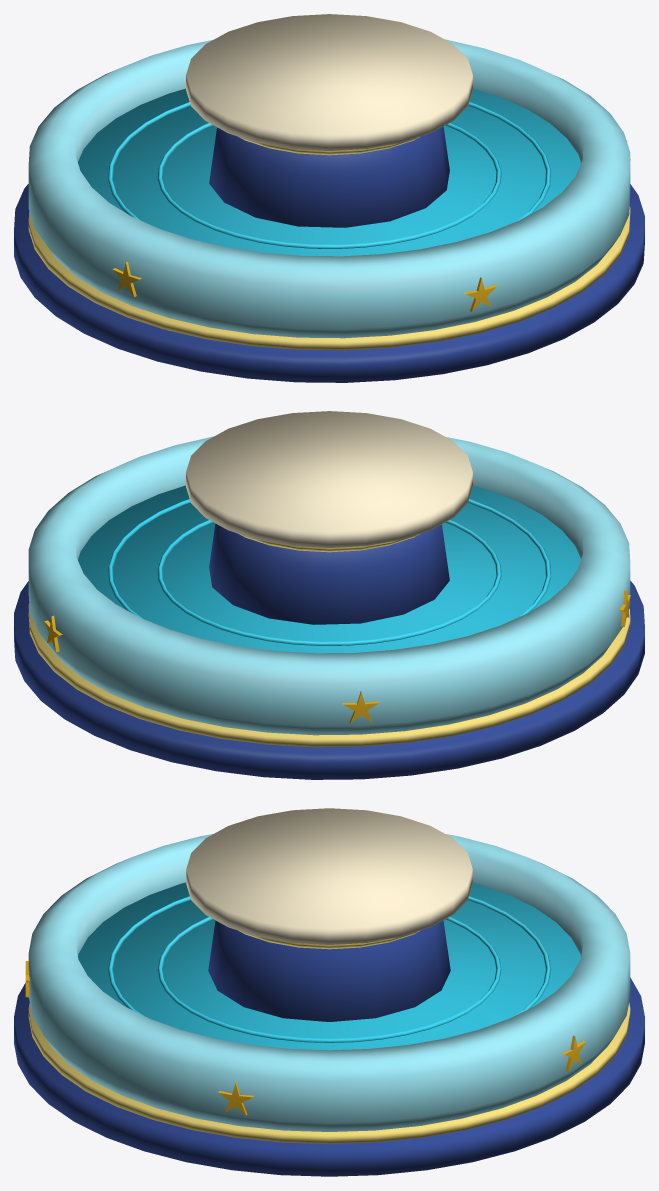
The model's file is FountainPedestal.fbx.
The picture shows the model from 3 angles, top to bottom: view 1: azimuth 30°, elevation 25°; view 2: azimuth 150°, elevation 25°; view 3: azimuth 270°, elevation 25°; orthographic projection.
Parts seen in each view (by area): view 1: FountainPedestal; view 2: FountainPedestal; view 3: FountainPedestal.
Boxes of the visible parts, left/top/right/bottom form: FountainPedestal: left=14, top=14, right=644, bottom=382; FountainPedestal: left=14, top=411, right=644, bottom=779; FountainPedestal: left=14, top=808, right=644, bottom=1176.
Size of the model in its own units: 10.8 by 3.3 by 10.8.
Materials: 1 (1 with a texture image).
